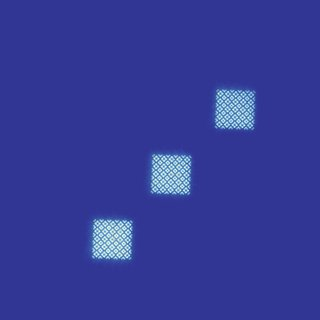overheated: (95, 223, 131, 257), (156, 158, 189, 189), (224, 101, 244, 120)
